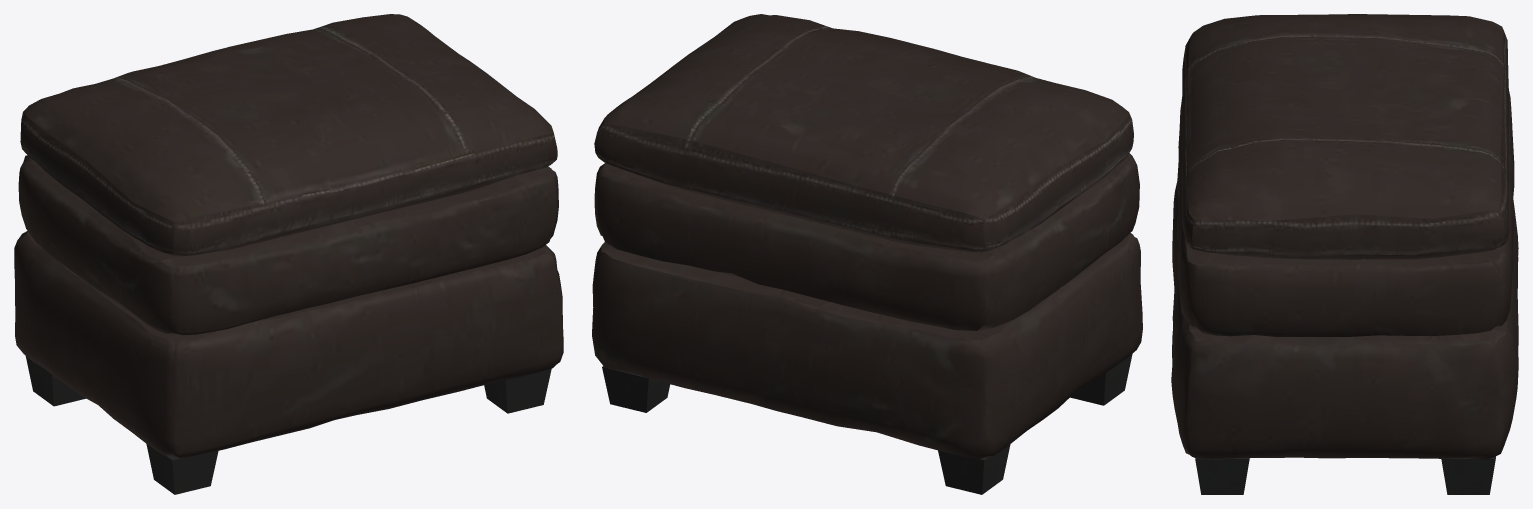
Rendered from pouf.glb.
3 renders of one model, left to right at view 1: azimuth 30°, elevation 25°; view 2: azimuth 150°, elevation 25°; view 3: azimuth 270°, elevation 25°, orthographic.
Visible parts, largest first — view 1: Ottoman_01; view 2: Ottoman_01; view 3: Ottoman_01.
Part boxes in pixels (<box>): Ottoman_01: <box>14,14,563,494</box>; Ottoman_01: <box>592,14,1142,494</box>; Ottoman_01: <box>1171,14,1518,494</box>.
Bounding box in the file's own units: 0.8846 × 0.6243 × 0.6212.
1 material, 1 textured.
